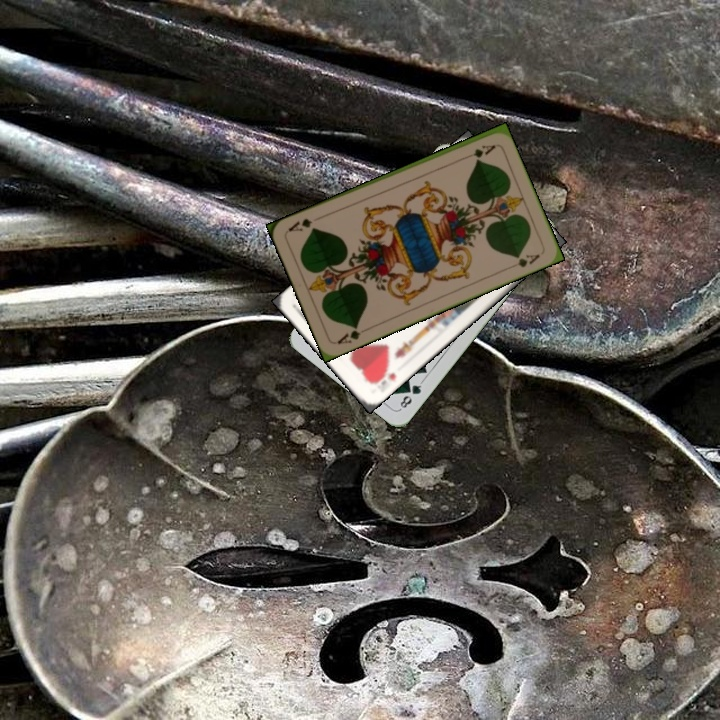G8: (396, 378, 425, 412)
GA: (333, 321, 371, 347), (459, 141, 498, 162)
HK: (367, 364, 399, 390)
